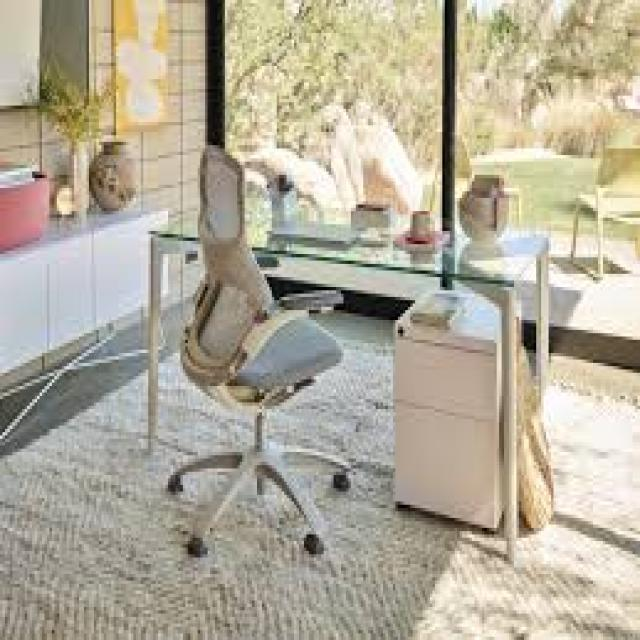chair: (95, 145, 364, 583)
